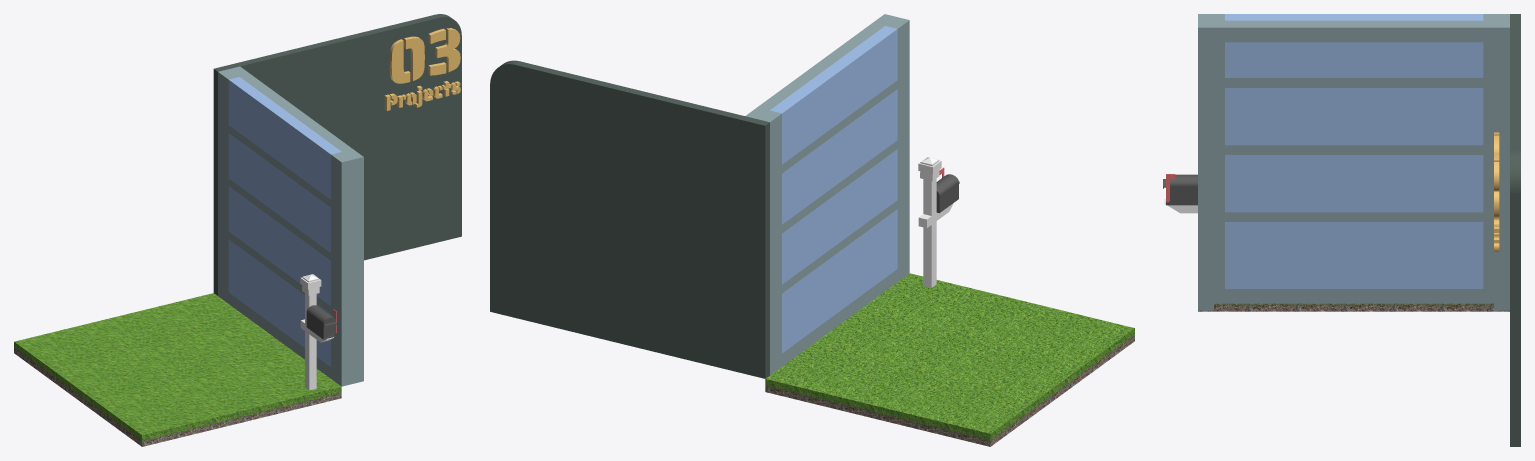
The picture shows the model from 3 angles, left to right: view 1: azimuth 30°, elevation 25°; view 2: azimuth 150°, elevation 25°; view 3: azimuth 270°, elevation 25°; orthographic projection. The views are drawn at different scales.
Visible parts, largest first — view 1: group_14, group_0, group_4, group_7, group_6, group_7.004, group_7.005, group_7.006, group_1, group_9, group_12, instance_0.003 (+2 smaller); view 2: group_14, group_0, group_6, group_7, group_7.006, group_4, group_7.004, group_7.005, group_1, group_9, group_12; view 3: group_6, group_7.003, group_4, group_7.001, group_7.002, group_7, group_14, group_1, group_12, group_0.
Boxes of the visible parts, box(x1,y1,x2,y2) form: group_14: box(213, 14, 461, 295); group_0: box(14, 293, 341, 440); group_4: box(218, 66, 363, 386); group_7: box(228, 77, 341, 199); group_6: box(224, 74, 345, 381); group_7.004: box(228, 133, 330, 252); group_7.005: box(228, 186, 330, 305); group_7.006: box(228, 239, 330, 366); group_1: box(14, 347, 341, 446); group_9: box(300, 277, 333, 390); group_12: box(306, 305, 336, 339); instance_0.003: box(435, 28, 460, 72); group_14: box(490, 60, 769, 378); group_0: box(765, 273, 1134, 440); group_6: box(765, 22, 902, 369); group_7: box(770, 26, 897, 164); group_7.006: box(782, 209, 897, 353); group_4: box(745, 14, 909, 374); group_7.004: box(782, 89, 897, 224); group_7.005: box(782, 149, 897, 284); group_1: box(765, 335, 1134, 446); group_9: box(918, 160, 953, 287); group_12: box(936, 174, 958, 213); group_6: box(1214, 14, 1493, 303); group_7.003: box(1225, 222, 1483, 288); group_4: box(1198, 14, 1509, 310); group_7.001: box(1225, 88, 1483, 145); group_7.002: box(1225, 155, 1483, 212); group_7: box(1225, 14, 1483, 77); group_14: box(1510, 14, 1520, 446); group_1: box(1198, 304, 1509, 311); group_12: box(1166, 174, 1197, 205); group_0: box(1214, 303, 1493, 304).
Size of the model in its own units: 6.1 by 3.1 by 3.38.
11 materials, 3 textured.
